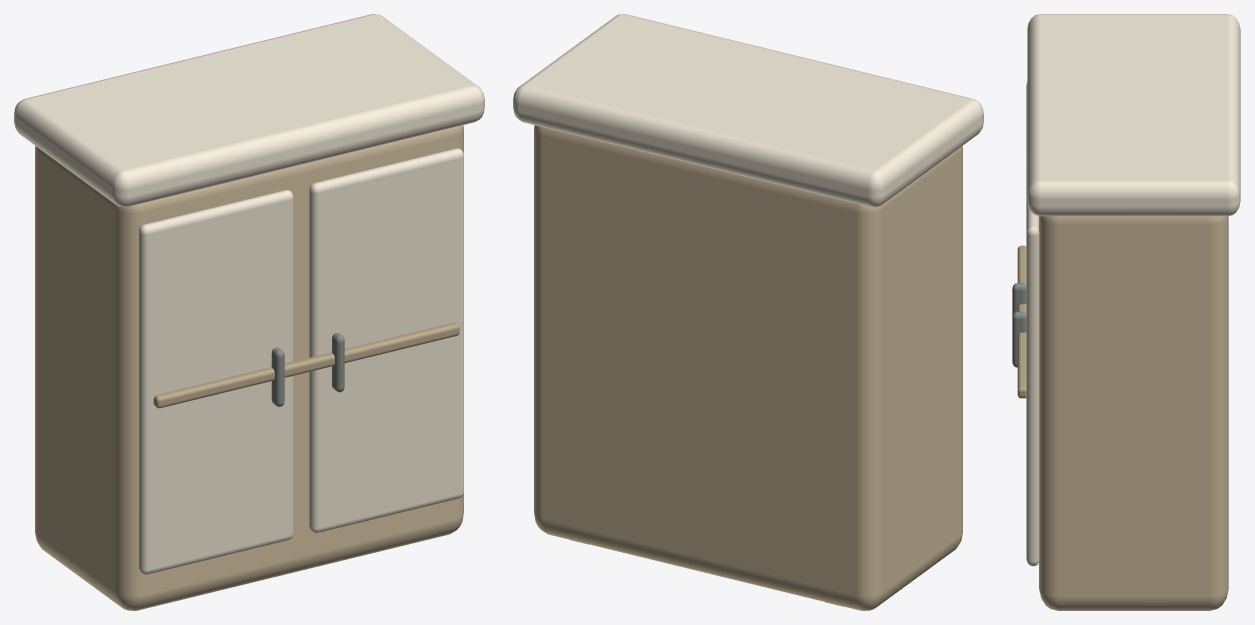
File: cabinet.glb
3 renders of one model, left to right at view 1: azimuth 30°, elevation 25°; view 2: azimuth 150°, elevation 25°; view 3: azimuth 270°, elevation 25°, orthographic. The views are drawn at different scales.
Parts seen in each view (by area): view 1: storage-cabinet; view 2: storage-cabinet; view 3: storage-cabinet.
Part boxes in pixels (x1=…): storage-cabinet: x1=14, y1=14, x2=484, y2=610; storage-cabinet: x1=513, y1=14, x2=983, y2=610; storage-cabinet: x1=1012, y1=14, x2=1240, y2=610.
Bounding box in the file's own units: 1.55 × 1.8 × 0.85.
